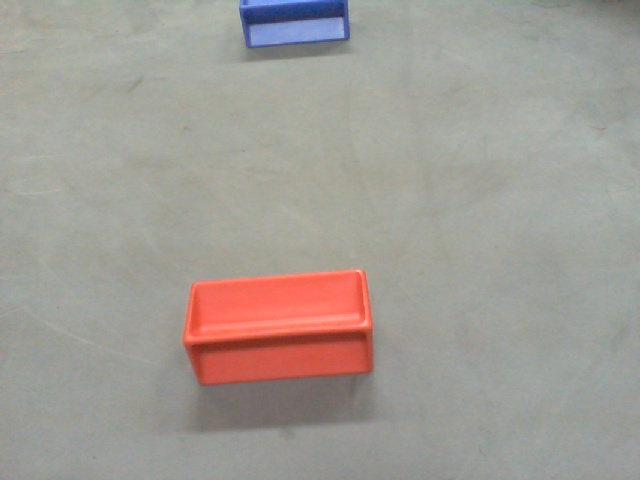BlueSample: (235, 1, 353, 47)
RedSample: (178, 263, 375, 390)
